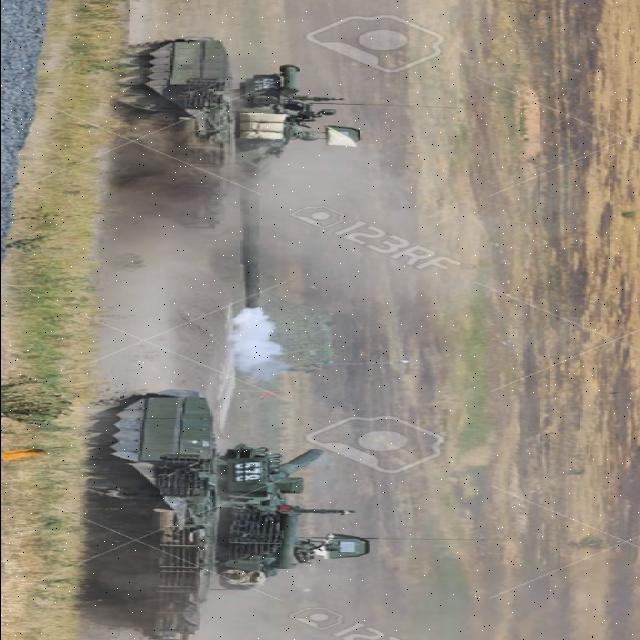TANK: (70, 382, 336, 637), (105, 35, 316, 314)
